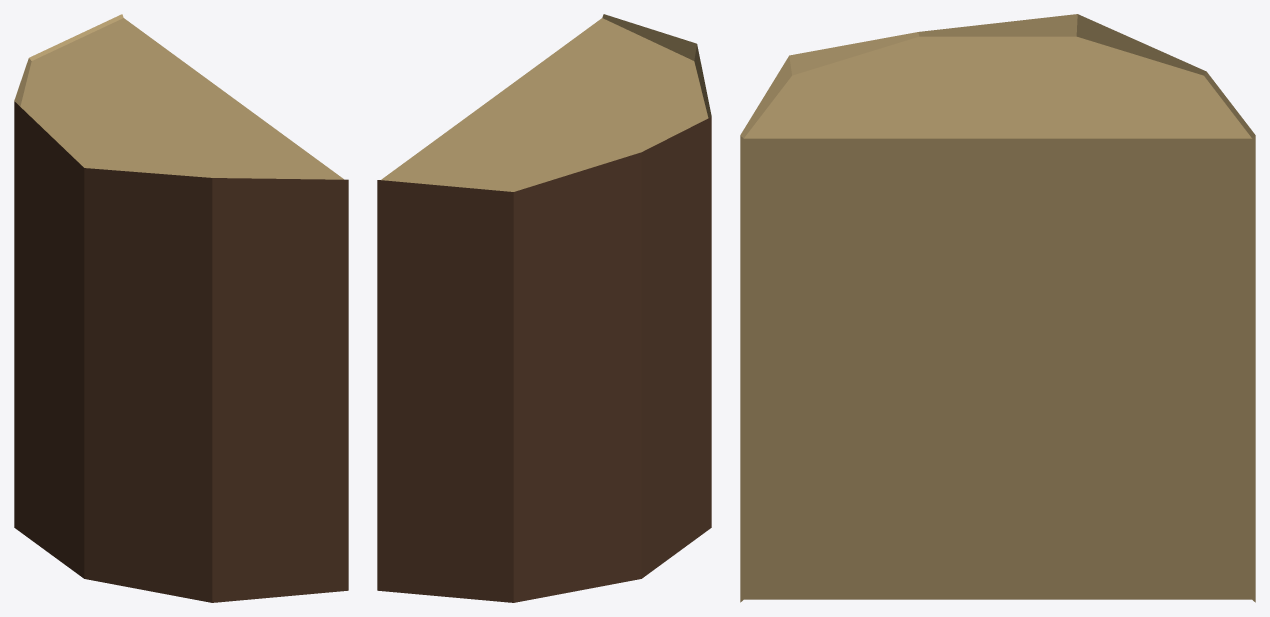
Rendered from WoodHalf.fbx.
3 renders of one model, left to right at view 1: azimuth 30°, elevation 25°; view 2: azimuth 150°, elevation 25°; view 3: azimuth 270°, elevation 25°, orthographic. The views are drawn at different scales.
Parts seen in each view (by area): view 1: left; view 2: left; view 3: left.
Boxes of the visible parts, x1=… form: left: x1=14, y1=14, x2=348, y2=602; left: x1=377, y1=14, x2=711, y2=602; left: x1=740, y1=14, x2=1255, y2=602.
Bounding box in the file's own units: 37.13 × 81.27 × 78.21.
